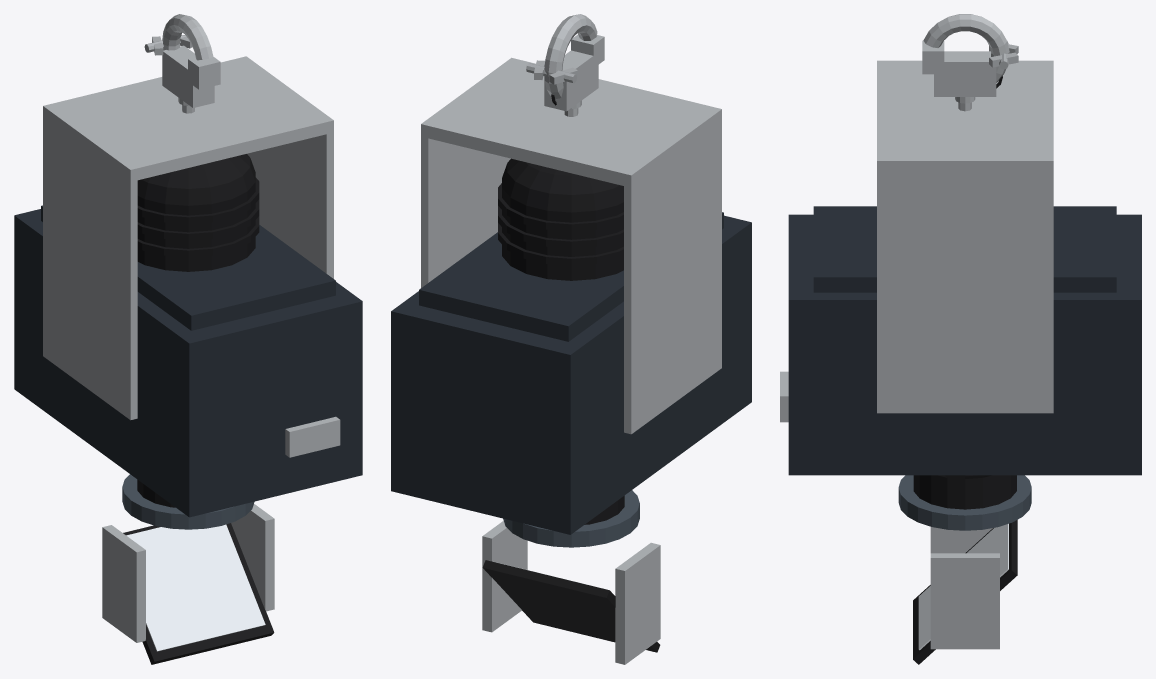
Rendered from scanner-mirror-spot.glb.
The picture shows the model from 3 angles, left to right: view 1: azimuth 30°, elevation 25°; view 2: azimuth 150°, elevation 25°; view 3: azimuth 270°, elevation 25°; orthographic projection. The views are drawn at different scales.
Visible parts, largest first — view 1: scanner-chassis, hanging-frame, optics-house, head-mirror, yoke-cheeks, truss-coupler, lens-ring, head-mirror-back, chassis-display; view 2: scanner-chassis, hanging-frame, optics-house, yoke-cheeks, head-mirror-back, truss-coupler, lens-ring, truss-coupler-bolt; view 3: hanging-frame, scanner-chassis, yoke-cheeks, truss-coupler, lens-ring, optics-nose, head-mirror, head-mirror-back.
Boxes of the visible parts, left/top/right/bottom form: scanner-chassis: left=14, top=205, right=362, bottom=517; hanging-frame: left=43, top=56, right=333, bottom=420; optics-house: left=137, top=154, right=259, bottom=271; head-mirror: left=126, top=524, right=265, bottom=651; yoke-cheeks: left=102, top=504, right=274, bottom=642; truss-coupler: left=162, top=14, right=220, bottom=113; lens-ring: left=122, top=474, right=254, bottom=529; head-mirror-back: left=123, top=523, right=274, bottom=664; chassis-display: left=285, top=416, right=340, bottom=457; scanner-chassis: left=391, top=212, right=751, bottom=534; hanging-frame: left=421, top=57, right=721, bottom=434; optics-house: left=498, top=158, right=623, bottom=280; yoke-cheeks: left=482, top=521, right=660, bottom=664; head-mirror-back: left=482, top=560, right=660, bottom=652; truss-coupler: left=544, top=14, right=604, bottom=116; lens-ring: left=503, top=490, right=639, bottom=547; truss-coupler-bolt: left=526, top=60, right=577, bottom=84; hanging-frame: left=877, top=60, right=1053, bottom=413; scanner-chassis: left=788, top=206, right=1141, bottom=475; yoke-cheeks: left=930, top=527, right=999, bottom=649; truss-coupler: left=922, top=14, right=1009, bottom=111; lens-ring: left=898, top=475, right=1031, bottom=530; optics-nose: left=913, top=475, right=1016, bottom=509; head-mirror: left=918, top=523, right=1008, bottom=650; head-mirror-back: left=913, top=520, right=1017, bottom=664.
Size of the model in its own units: 0.2816 by 0.8148 by 0.43.
